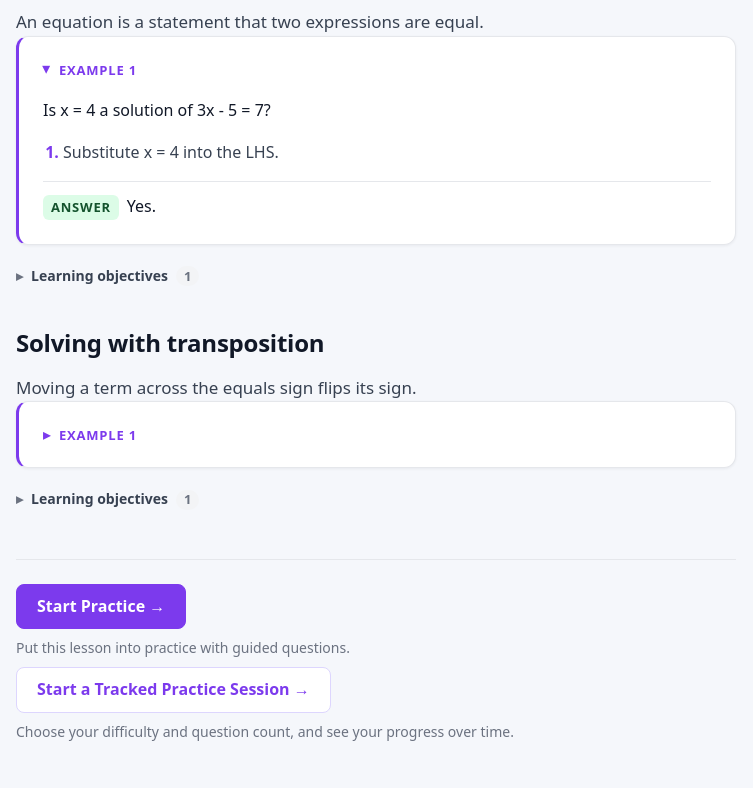
Test: TopicPage - second Practice entry point into the Session engine (approved slice) › shows an error and does not navigate when identity establishment fails
(page scrolled)
Click the button "Start a Tracked Practice Session →" at (173, 690), box [16,667,331,712]
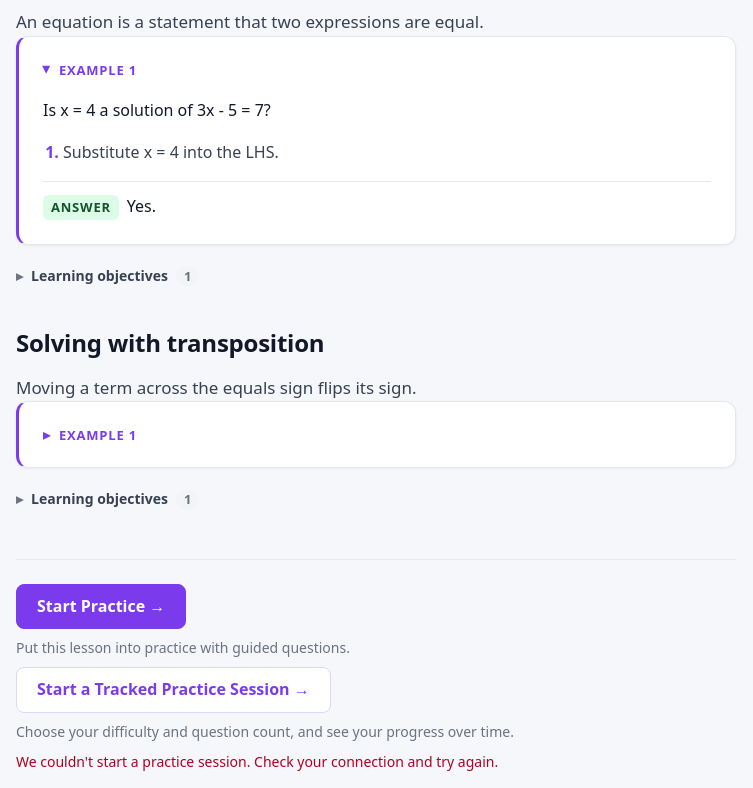
Expected: the text "couldn't start a practice session" is shown, [16,752,498,771]
